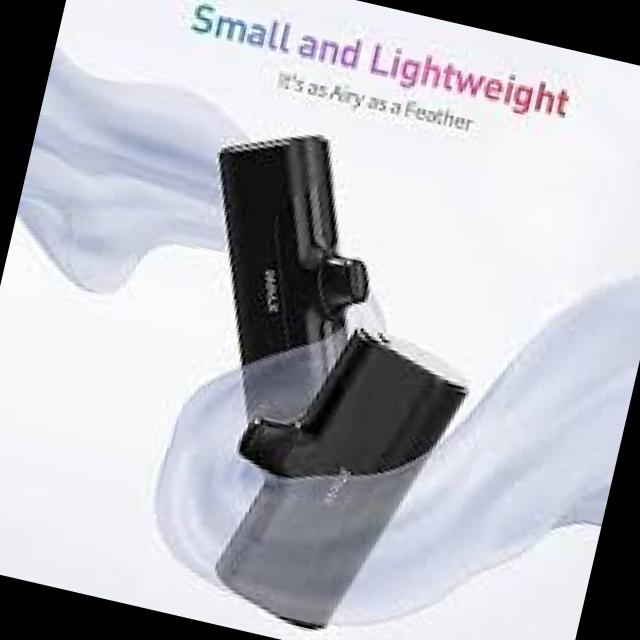portable-charger: (197, 302, 482, 640), (148, 109, 402, 469)
